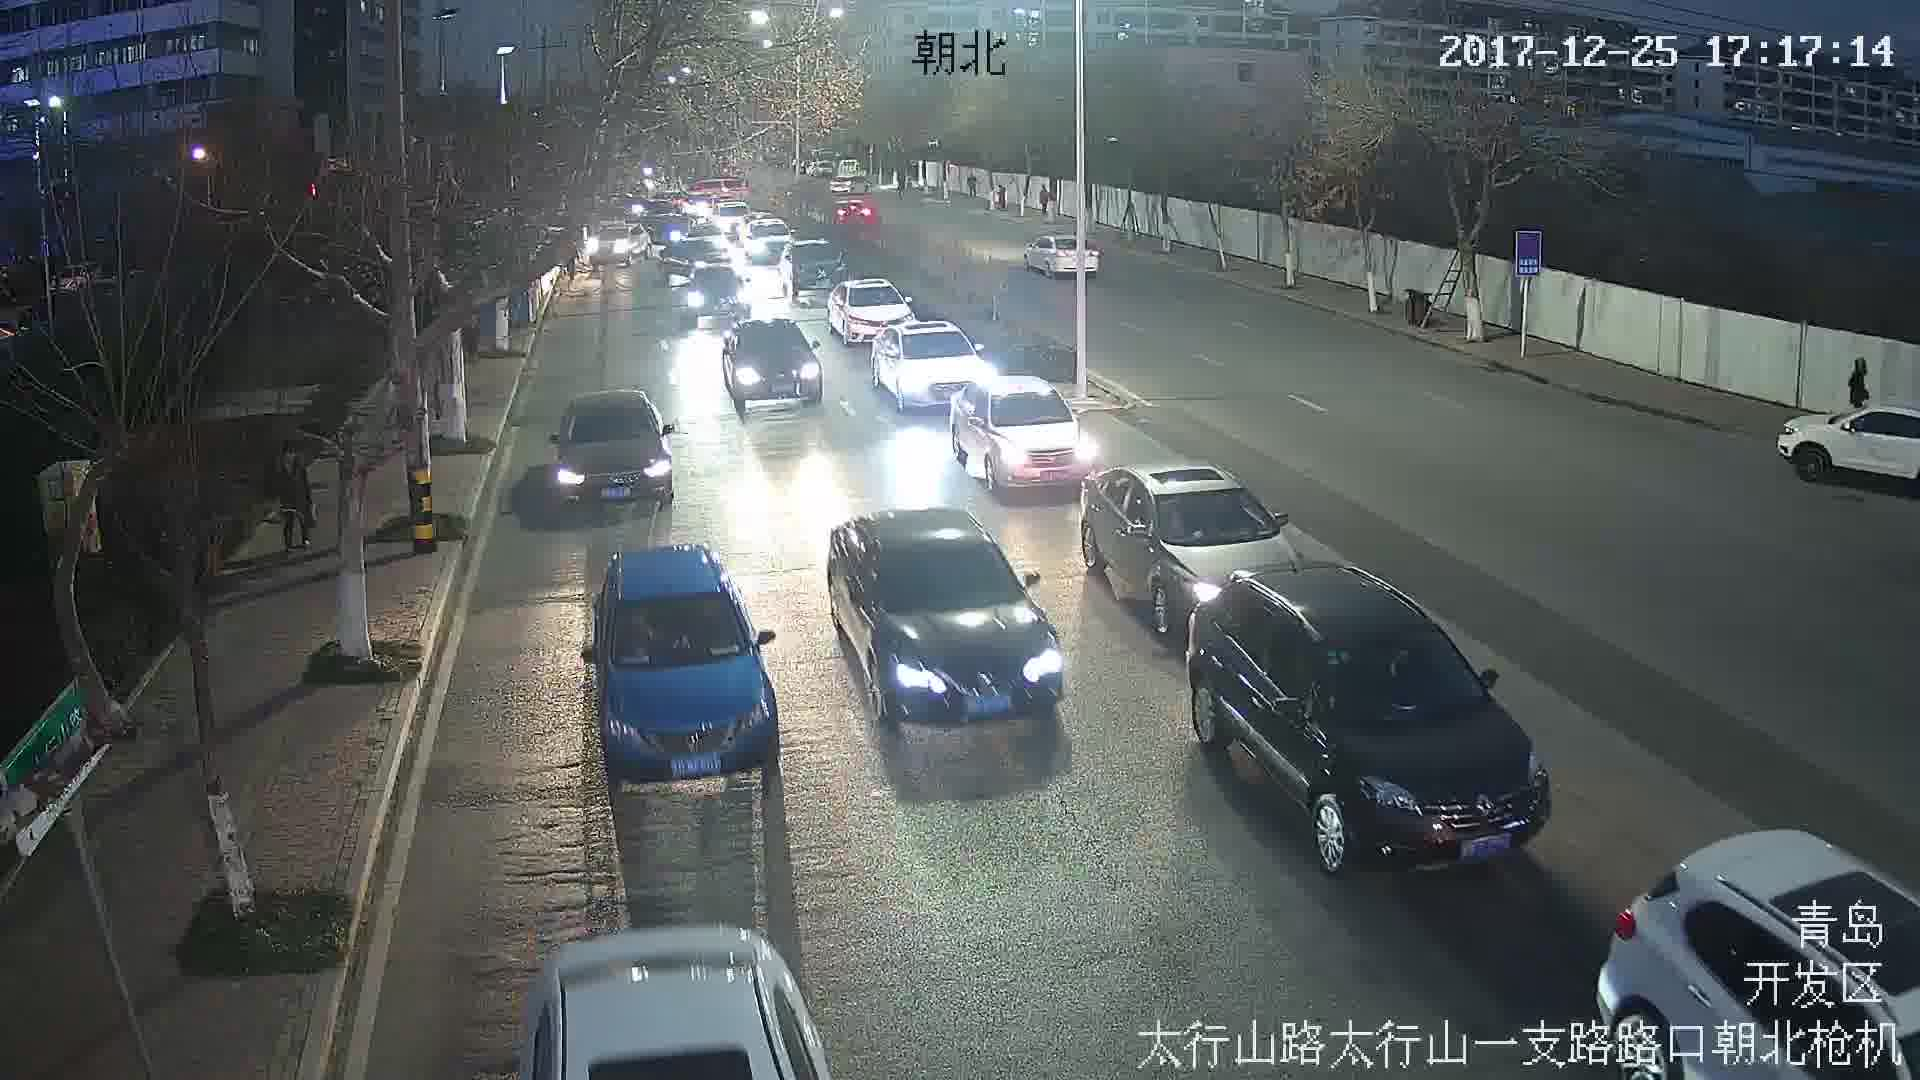car: (1189, 566, 1555, 869), (828, 516, 1067, 719), (587, 548, 780, 778), (1074, 464, 1300, 621), (543, 391, 678, 510), (955, 381, 1099, 488), (721, 320, 823, 407), (878, 323, 985, 399), (830, 282, 910, 344), (1024, 234, 1102, 273)
person: (277, 450, 320, 548), (1848, 353, 1871, 409)
